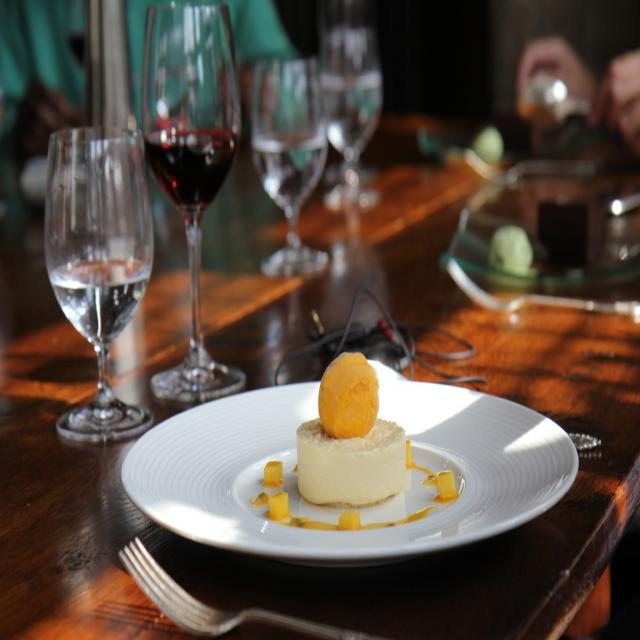ceramic plate: (138, 378, 586, 574)
